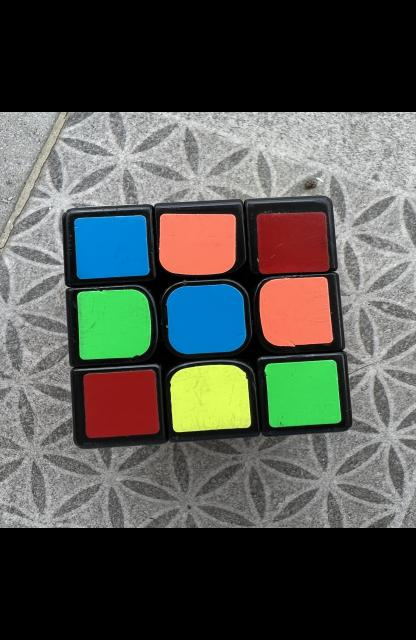Blue: (166, 284, 245, 355), (73, 215, 148, 279)
Green: (76, 290, 150, 360), (264, 360, 340, 427)
Orange: (258, 277, 332, 347), (158, 214, 234, 274)
Red: (82, 370, 158, 438), (256, 212, 329, 273)
Yellow: (169, 364, 250, 433)
